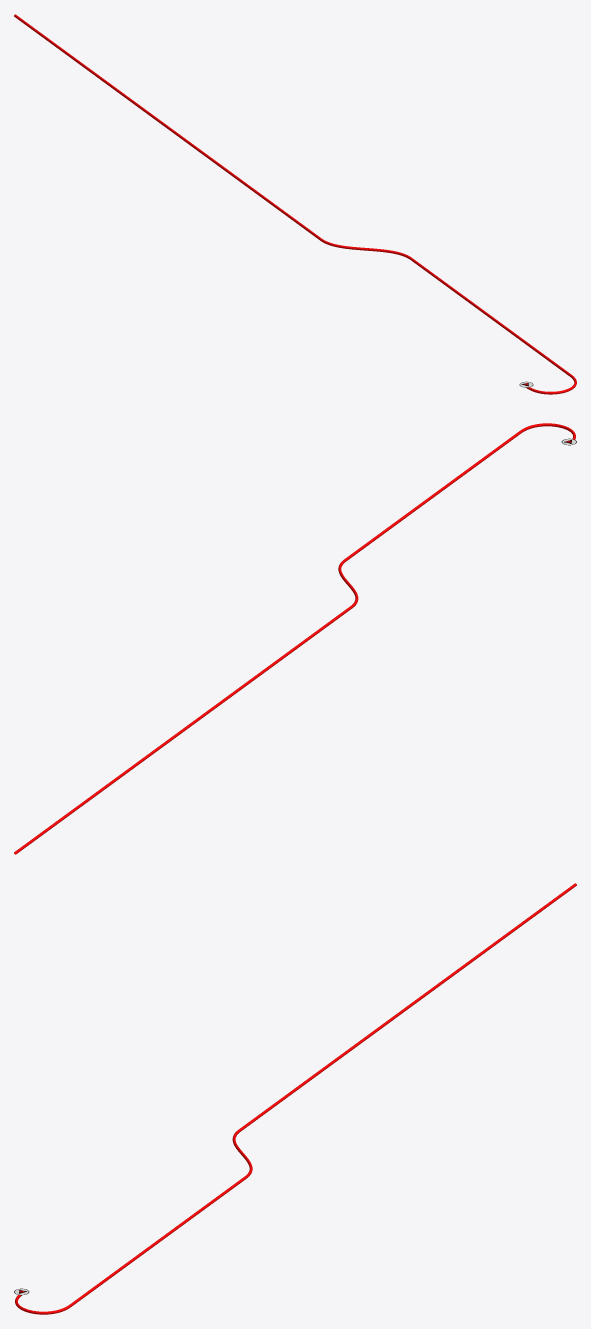
File: route_ca40b531-0804-4d79-a1a9-7ceb247f75d5_en_target.glb
The picture shows the model from 3 angles, top to bottom: view 1: azimuth 30°, elevation 25°; view 2: azimuth 150°, elevation 25°; view 3: azimuth 330°, elevation 25°; orthographic projection. The views are drawn at different scales.
Parts seen in each view (by area): view 1: KBO-Lech; view 2: KBO-Lech; view 3: KBO-Lech.
Boxes of the visible parts, left/top/right/bottom form: KBO-Lech: left=14, top=14, right=576, bottom=394; KBO-Lech: left=14, top=423, right=575, bottom=854; KBO-Lech: left=15, top=883, right=576, bottom=1314.
Size of the model in its own units: 1.75 by 0.1086 by 30.67.
